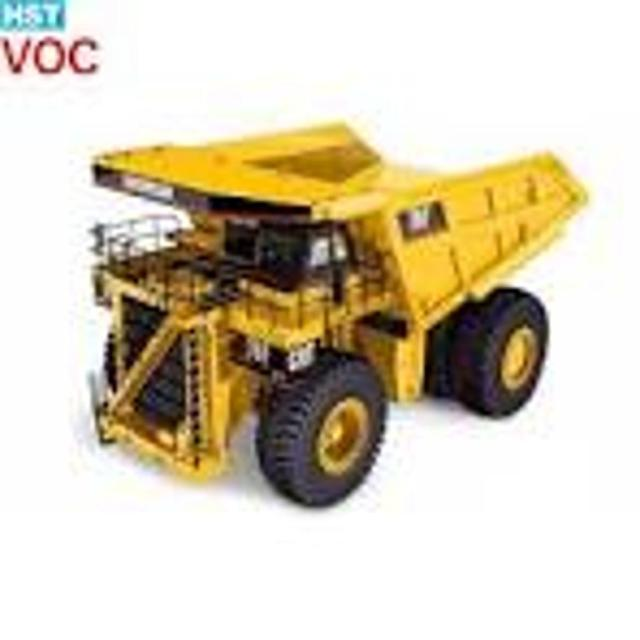dump_truck: (84, 111, 590, 516)
